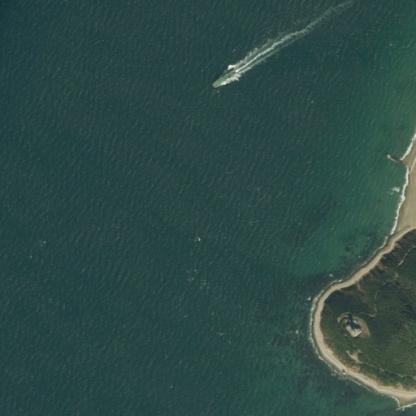ship: (202, 58, 242, 92)
